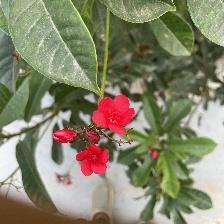jatropha: (92, 95, 136, 138), (76, 145, 112, 178)
